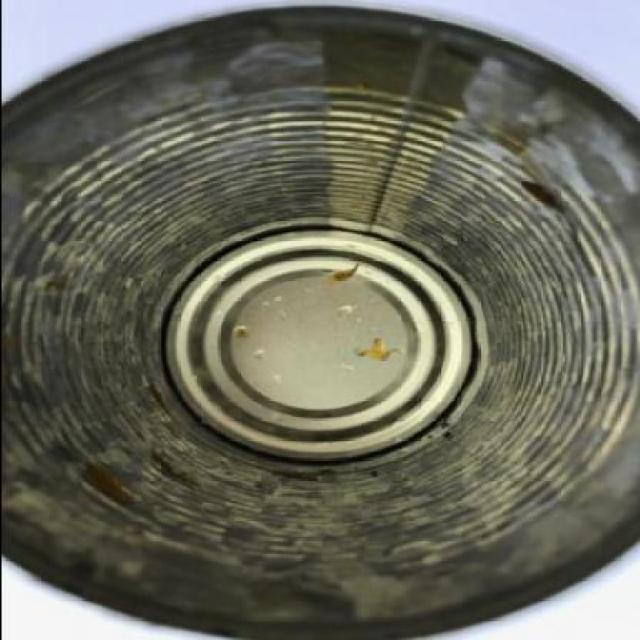METAL: (1, 6, 638, 639)
